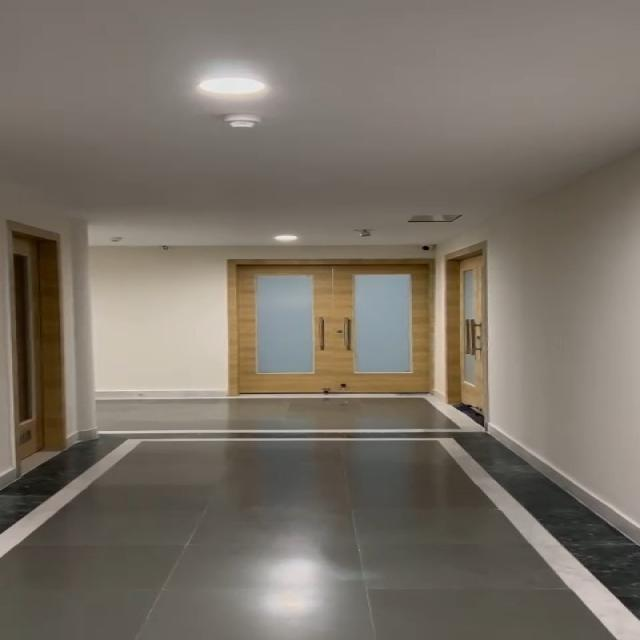door: (222, 257, 494, 402), (0, 216, 74, 471)
floor: (0, 494, 611, 640), (89, 394, 468, 492)
wall: (486, 210, 640, 450), (89, 240, 223, 392)
